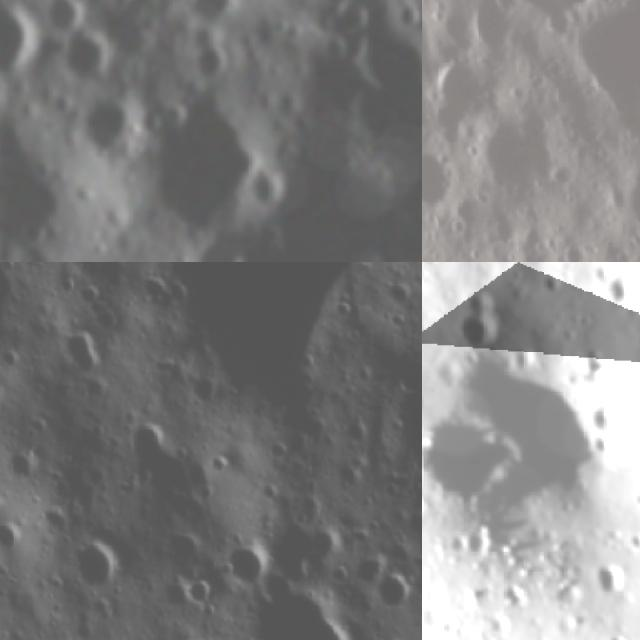crater: (119, 262, 422, 441), (129, 92, 271, 243), (422, 376, 540, 527), (114, 400, 225, 528), (460, 108, 554, 195), (64, 83, 148, 177), (439, 278, 523, 360), (422, 49, 495, 132), (46, 314, 110, 386), (92, 9, 159, 74), (222, 533, 286, 598), (0, 0, 46, 90), (67, 534, 128, 598), (58, 32, 120, 94), (422, 134, 463, 225), (174, 32, 234, 92), (242, 162, 301, 222), (584, 391, 637, 444), (462, 0, 514, 53), (39, 0, 94, 46), (342, 547, 391, 596), (0, 443, 47, 494), (177, 0, 244, 33), (331, 0, 377, 48), (601, 262, 640, 314), (588, 553, 633, 598), (374, 573, 419, 616), (178, 571, 220, 617), (183, 237, 258, 262), (56, 0, 132, 24), (72, 278, 115, 314), (535, 262, 572, 299), (551, 235, 594, 262), (444, 212, 476, 245), (393, 0, 422, 35), (0, 342, 28, 377), (538, 0, 599, 14), (0, 514, 23, 551), (604, 624, 640, 640), (625, 527, 640, 556), (422, 262, 450, 274), (0, 632, 38, 640)
